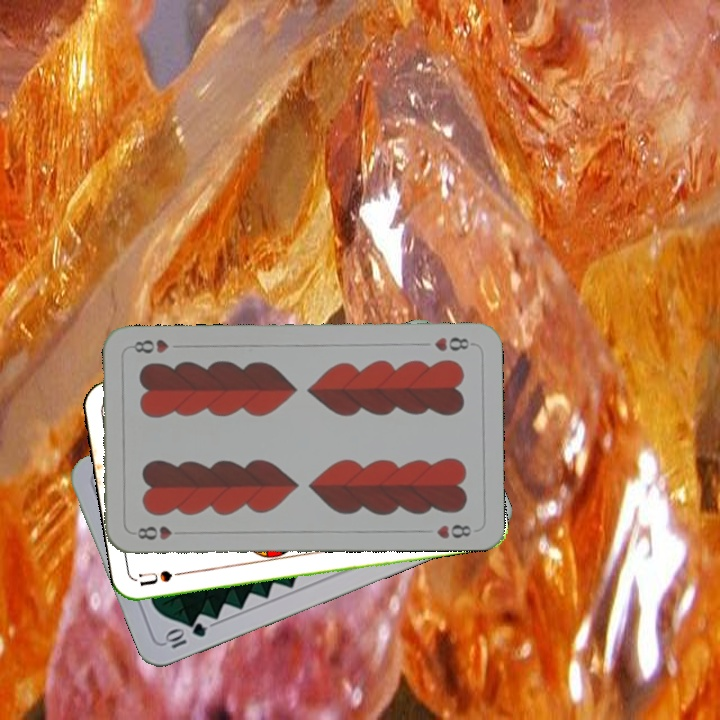G10: (160, 619, 209, 651)
H8: (430, 333, 476, 354), (134, 522, 174, 542)
SU: (136, 566, 195, 589)
